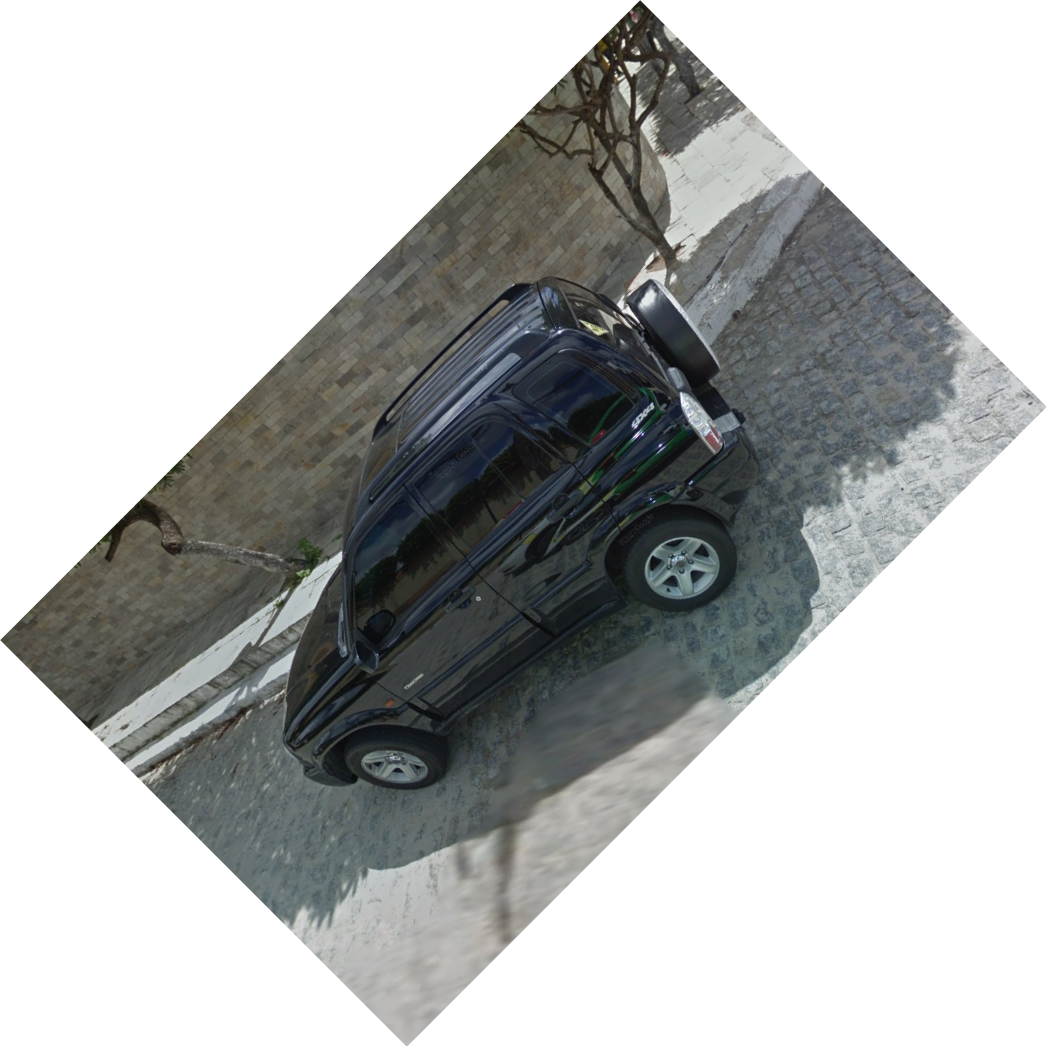car: (281, 275, 764, 797)
